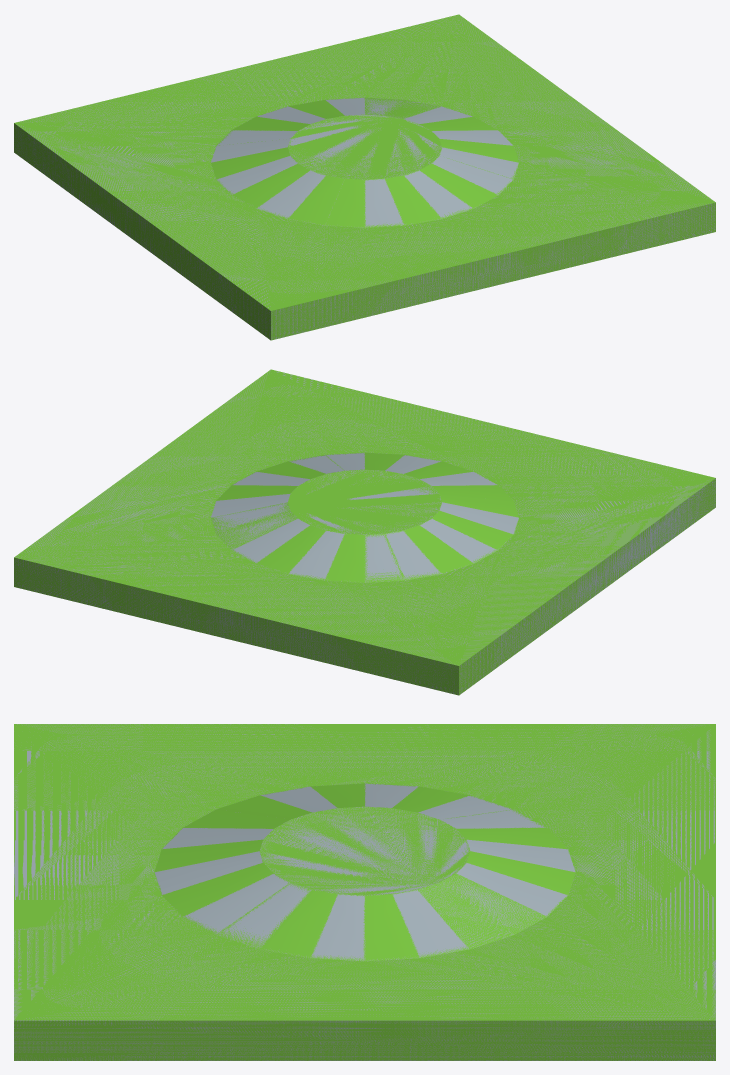
Rendered from Bump_01.obj.
The picture shows the model from 3 angles, top to bottom: view 1: azimuth 30°, elevation 25°; view 2: azimuth 150°, elevation 25°; view 3: azimuth 270°, elevation 25°; orthographic projection. The views are drawn at different scales.
Visible parts, largest first — view 1: Mesh1 Bump Model; view 2: Mesh1 Bump Model; view 3: Mesh1 Bump Model.
Part boxes in pixels (box(x1,y1,x2,y2)): Mesh1 Bump Model: box(14, 14, 715, 340); Mesh1 Bump Model: box(14, 369, 715, 695); Mesh1 Bump Model: box(14, 724, 715, 1060).
Bounding box in the file's own units: 3 × 0.29 × 3.
